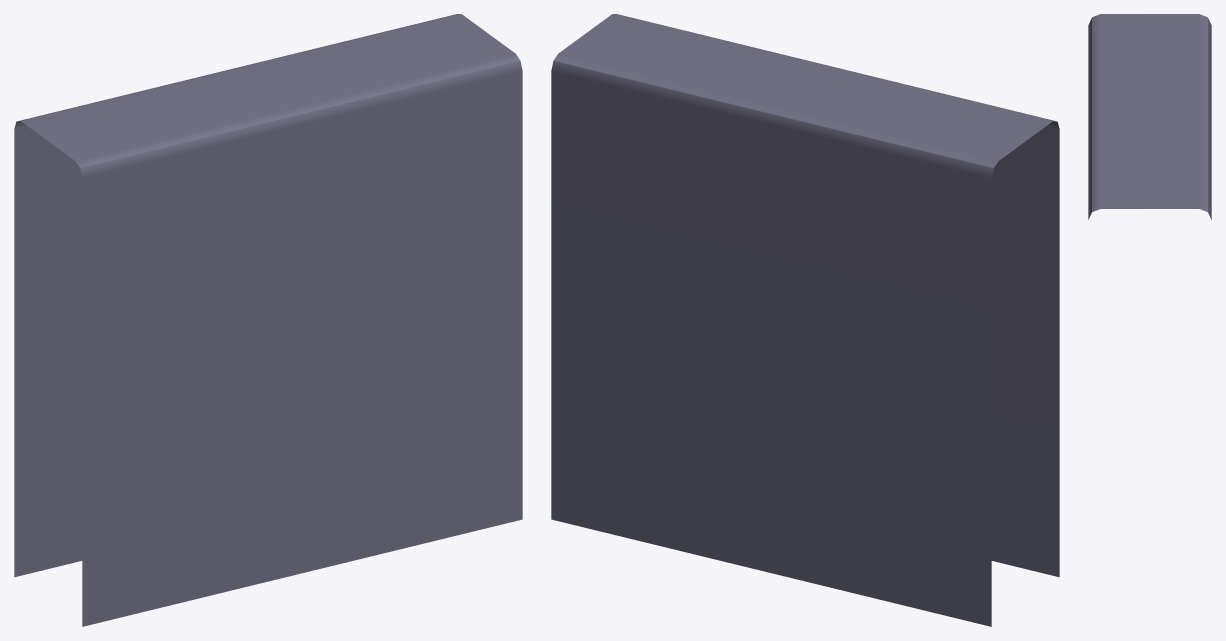
Rendered from SM_BaseM.fbx.
3 views of the same model, side by side, from view 1: azimuth 30°, elevation 25°; view 2: azimuth 150°, elevation 25°; view 3: azimuth 270°, elevation 25° (orthographic). The views are drawn at different scales.
Visible parts, largest first — view 1: pCube5; view 2: pCube5; view 3: pCube5.
Part boxes in pixels (<box>): pCube5: <box>14,14,522,626</box>; pCube5: <box>551,14,1059,626</box>; pCube5: <box>1088,14,1211,219</box>.
Size of the model in its own units: 300 by 300 by 80.
